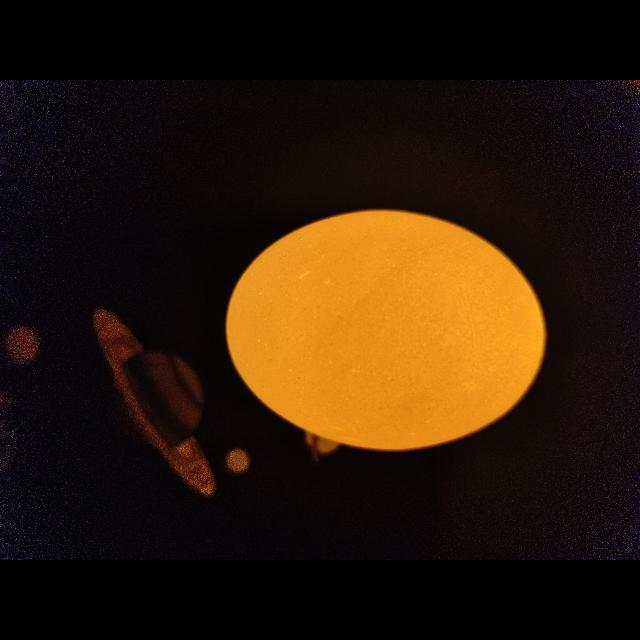AA - Premium: (226, 210, 545, 450)
